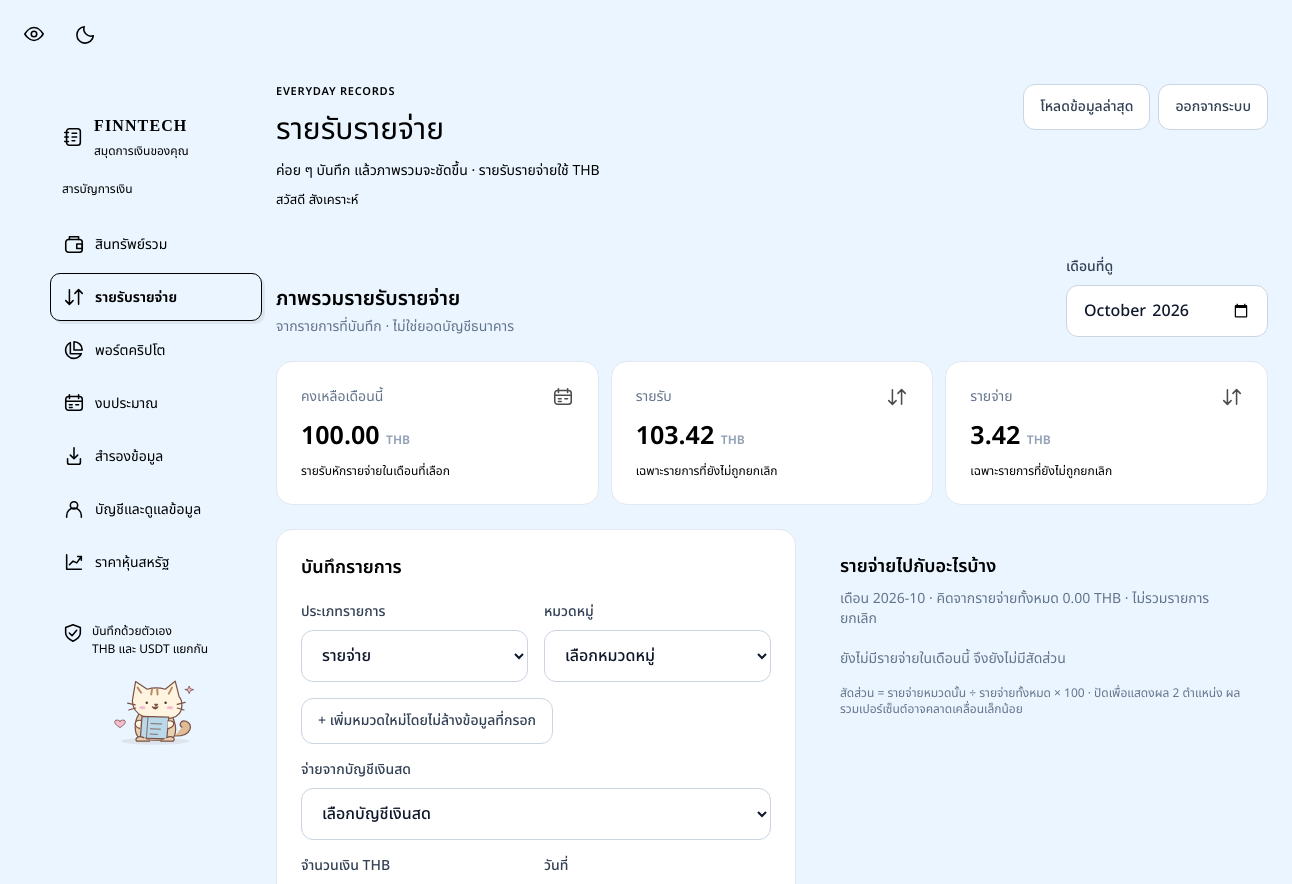
Test: tracker presentation preserves financial boundaries › masks THB totals and budgets without changing the selected month or issuing writes
The width and height of the screenshot is (1292, 884).
Expected: the text "103.42" is shown, [636,416,714,454]
Click the button named "ซ่อนยอดเงิน" at (34, 34), box [12,12,56,56]
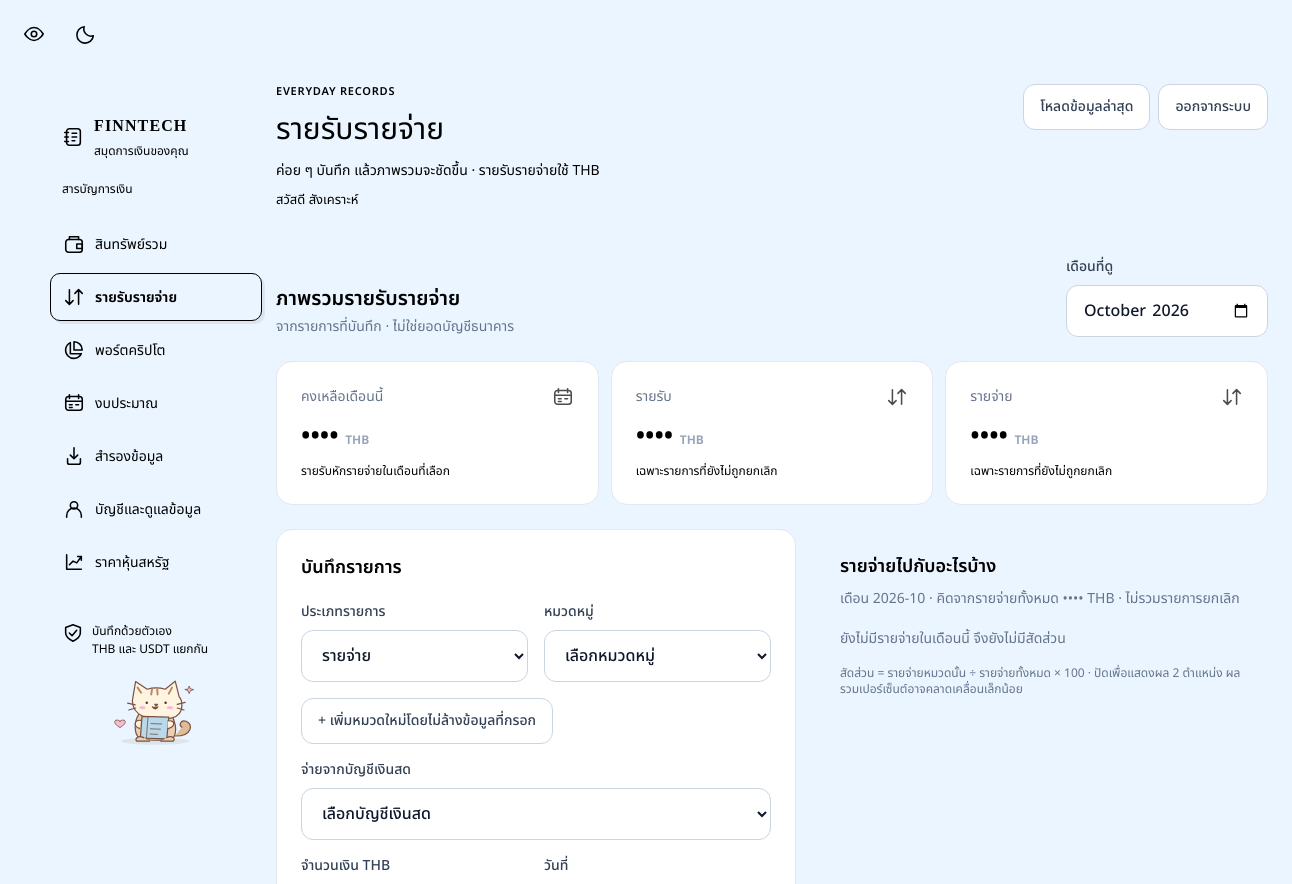
Expected: the field labelled "เดือนที่ดู" holds "2026-10", [1066,284,1268,336]
Expected: the text "103.42" is gone
Click the button "งบประมาณ" at (156, 403), box [50,379,262,427]
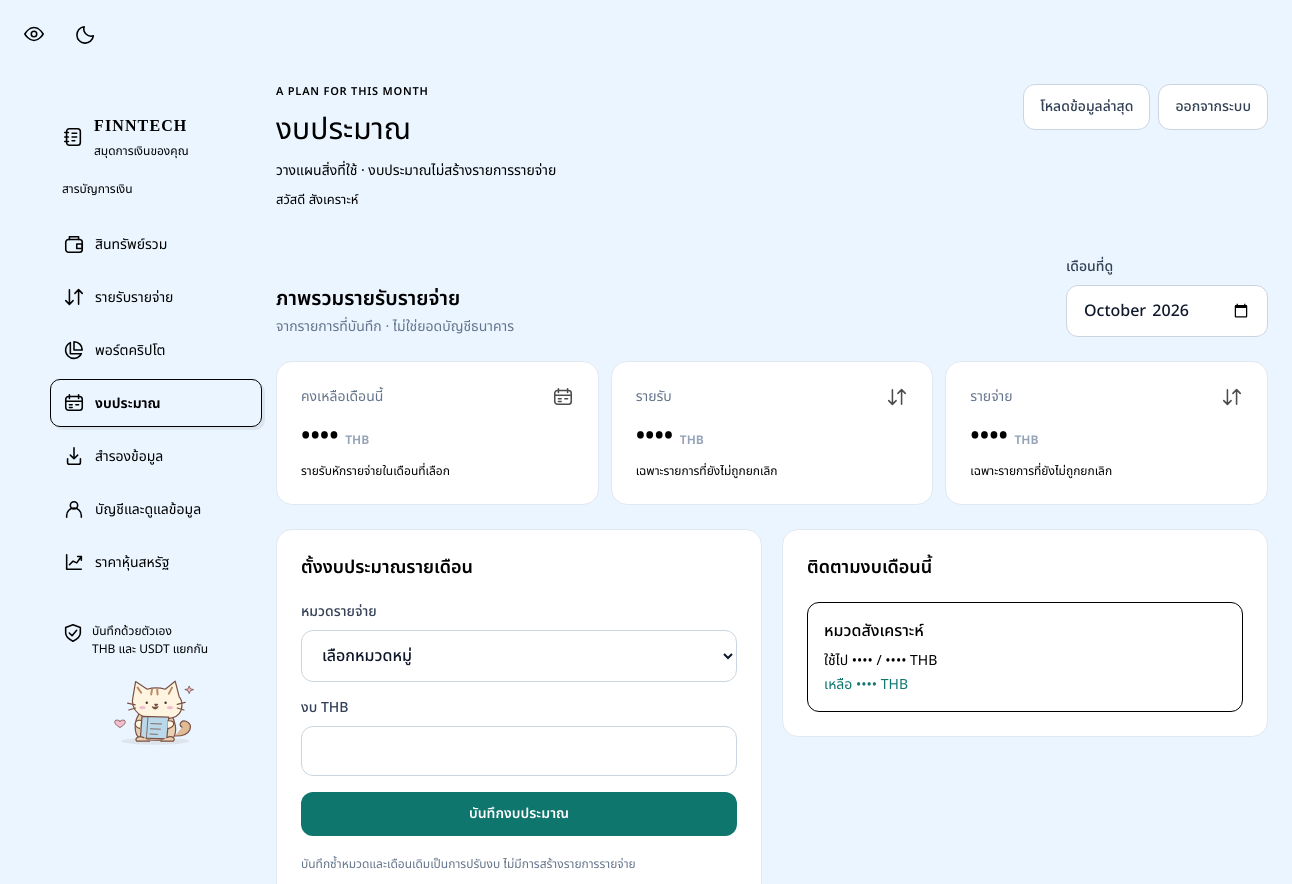
Expected: the text "ใช้ไป •••• / •••• THB" is shown, [824,650,937,670]
